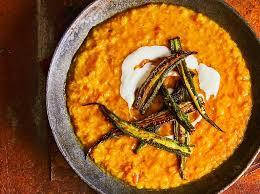Dhal Curry: (84, 11, 241, 189)
